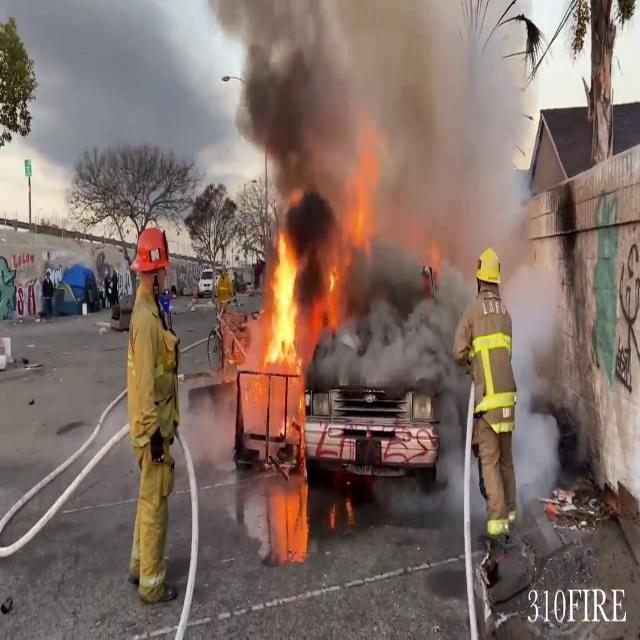Fire: (230, 229, 312, 451)
Smoke: (214, 0, 572, 312)
